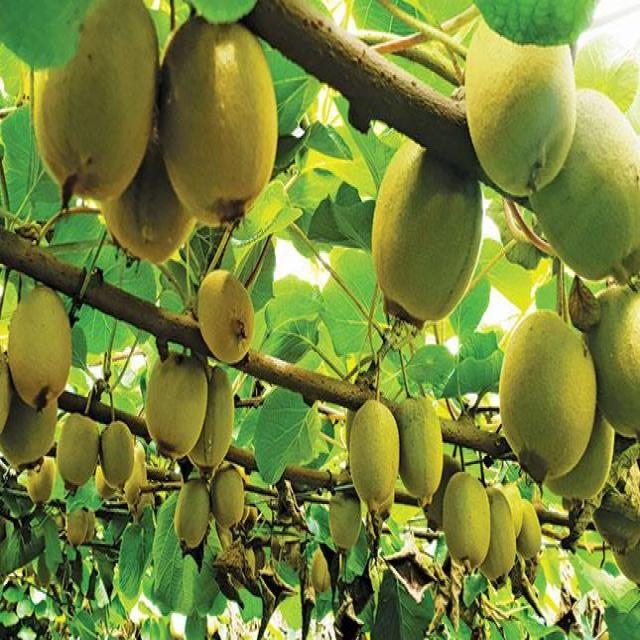kiwi: (34, 1, 163, 217), (157, 11, 279, 232), (372, 131, 490, 339), (462, 7, 583, 206), (527, 81, 640, 291), (496, 303, 602, 478), (99, 128, 205, 269), (586, 280, 640, 448), (5, 286, 76, 412), (542, 401, 628, 503), (192, 262, 260, 369), (147, 353, 213, 459), (347, 401, 404, 515), (397, 391, 448, 510), (442, 465, 494, 572), (192, 363, 239, 478), (1, 398, 63, 475), (479, 483, 521, 592), (422, 454, 467, 539), (54, 411, 102, 489), (174, 473, 214, 555), (588, 502, 640, 563), (328, 492, 370, 563), (99, 417, 137, 489), (213, 467, 248, 532), (519, 496, 547, 565), (124, 439, 151, 510), (25, 454, 61, 507), (496, 478, 526, 540), (614, 534, 640, 590), (308, 547, 334, 600), (67, 505, 92, 556), (94, 470, 117, 502)
